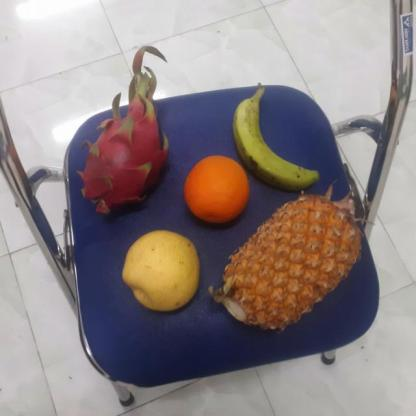banana: (232, 88, 334, 196)
orange: (182, 156, 254, 226)
pear: (124, 228, 202, 314)
pineapple: (216, 196, 364, 329)
pitaya: (80, 106, 173, 218)
